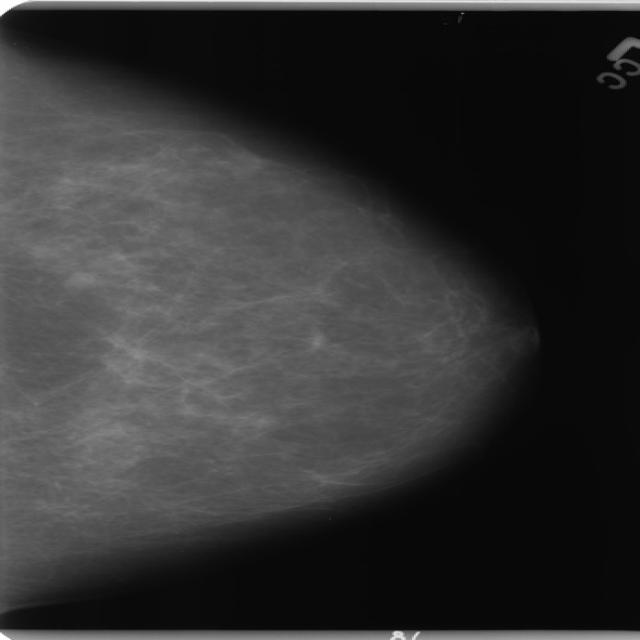tumour: (59, 270, 94, 289)
